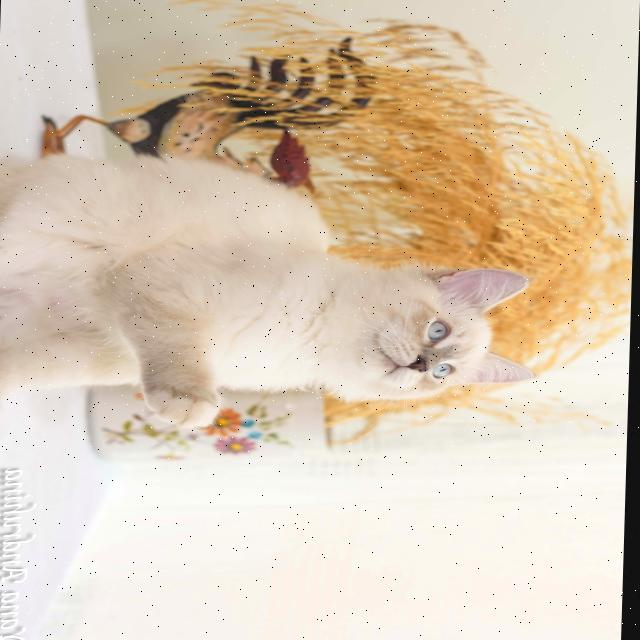Neva Masquerade: (0, 148, 551, 435)
